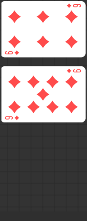9D: (66, 67, 82, 74)
